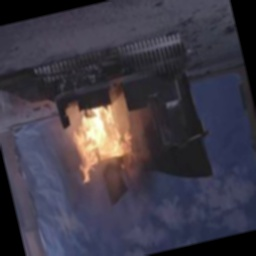fire: (56, 96, 143, 191)
